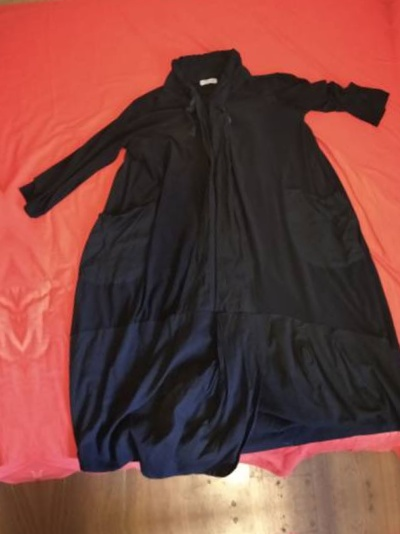Dress: (4, 22, 400, 487), (0, 71, 23, 534), (393, 0, 400, 441), (65, 534, 400, 534)
